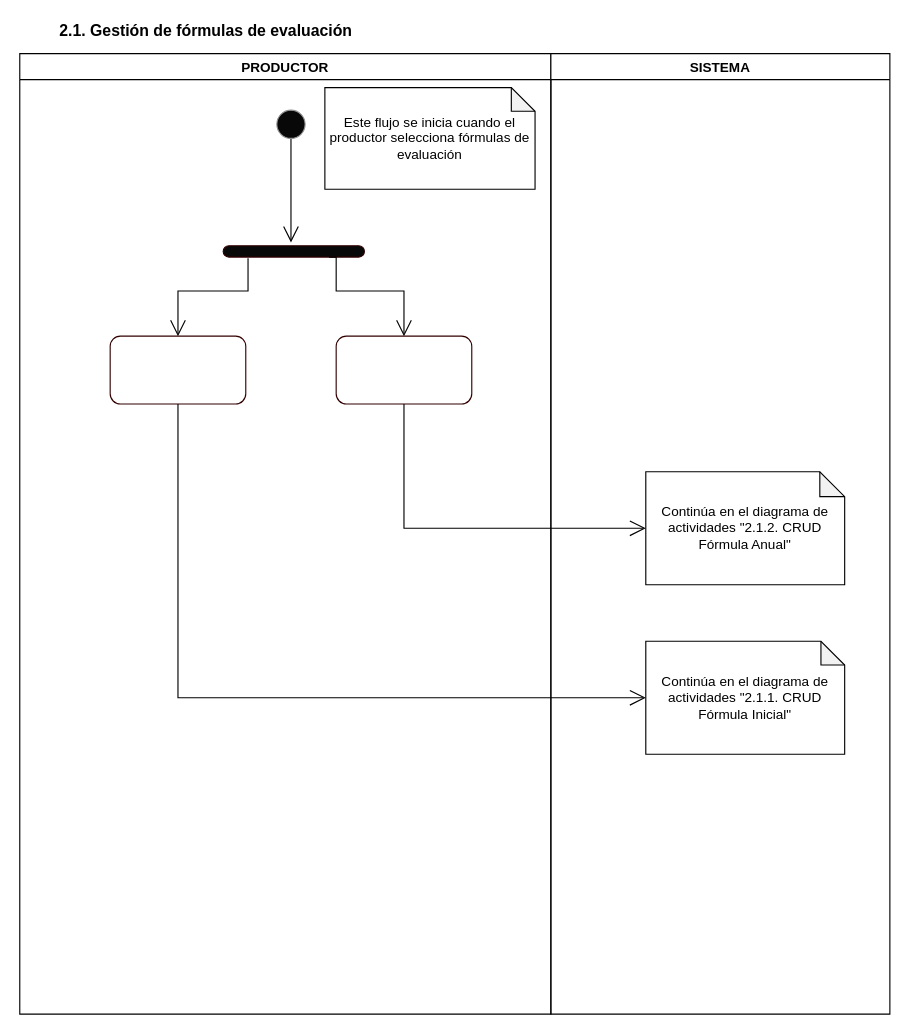
The diagram is 910 pixels wide and 1034 high, and some of its shapes have lost their labels. Each missing label, with the centre of its shape:
"Selecciona fórmulas de evaluación anuales" belongs at (x=403, y=369).
"Selecciona fórmulas de evaluación iniciales" belongs at (x=177, y=369).
